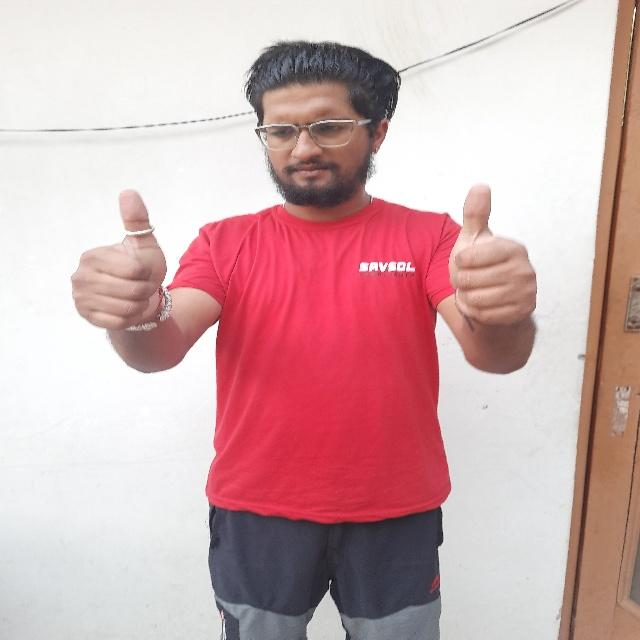Thumbs Up: (62, 180, 182, 351), (436, 169, 546, 336)
